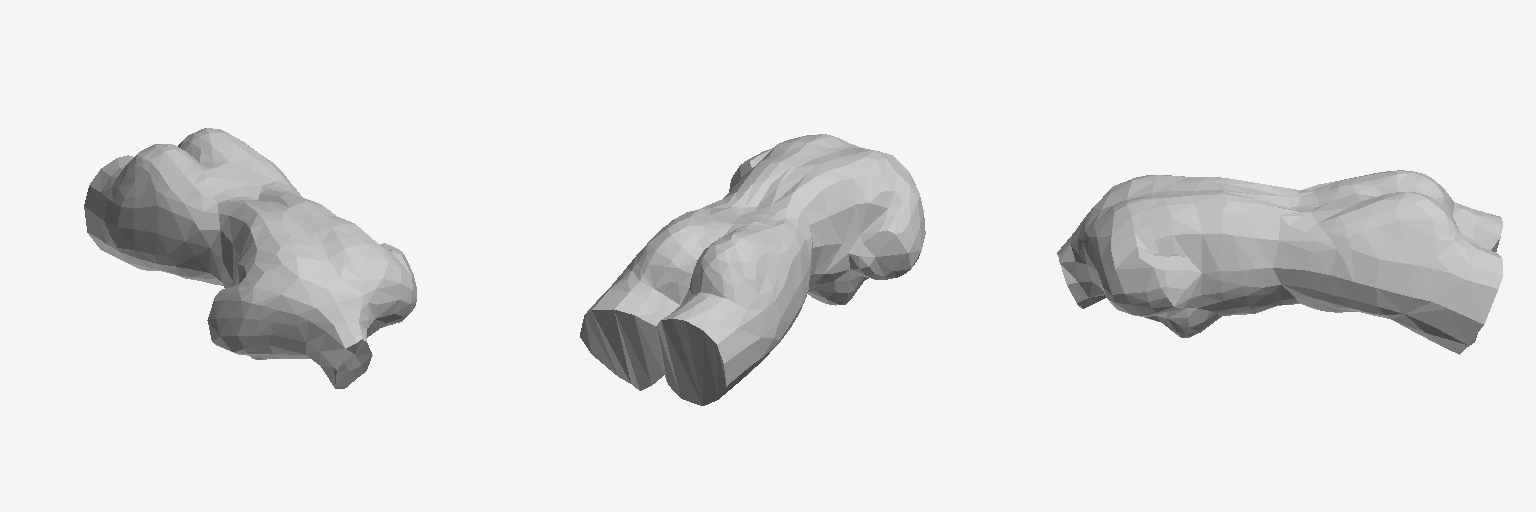
File: venus.obj
The picture shows the model from 3 angles: view 1: azimuth 30°, elevation 25°; view 2: azimuth 150°, elevation 25°; view 3: azimuth 270°, elevation 25°; orthographic projection.
Bounding box in the file's own units: 131 × 95 × 267.